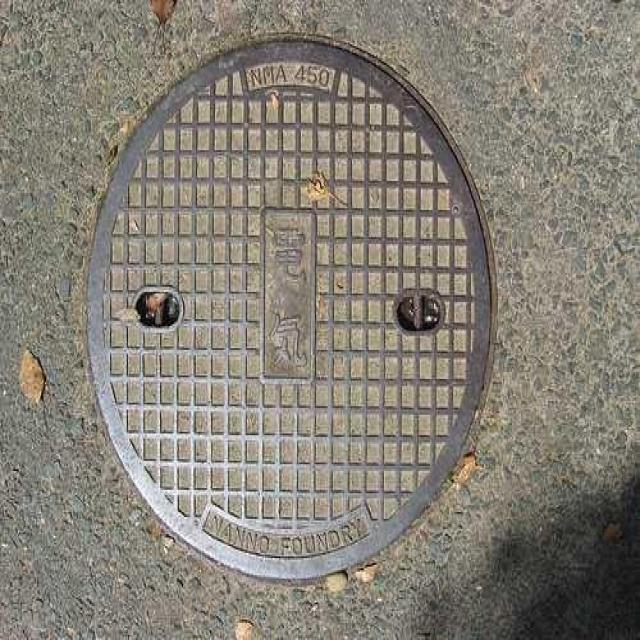manhole: (89, 40, 491, 578)
